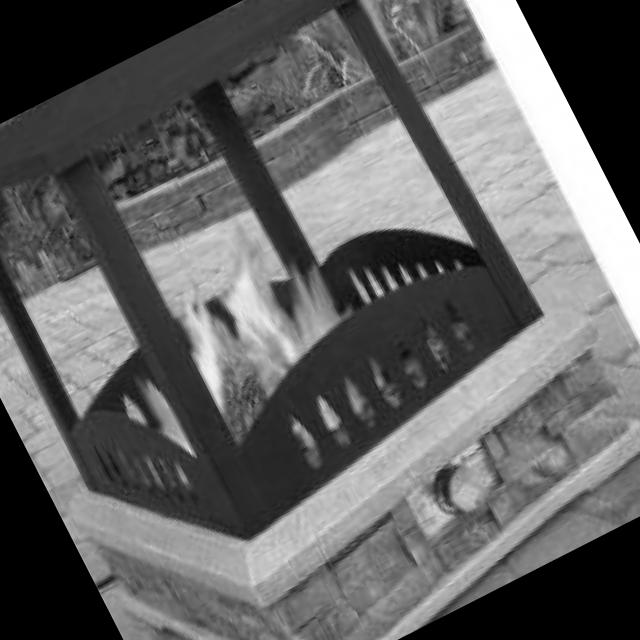fire: (108, 195, 400, 490)
